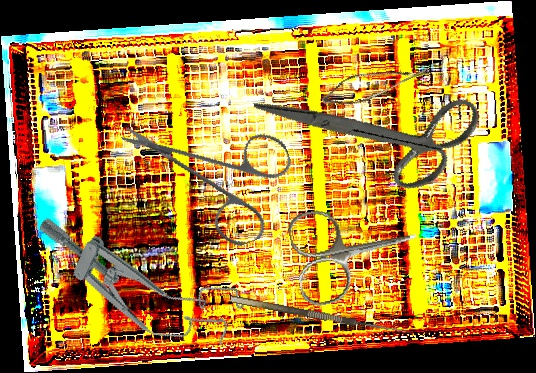Hook Surgical: (230, 285, 415, 338)
Iris Scissors: (252, 25, 497, 235), (118, 77, 314, 272), (285, 191, 427, 309)
Micro Scissor: (318, 42, 433, 124)
Speculum: (19, 203, 251, 365)
